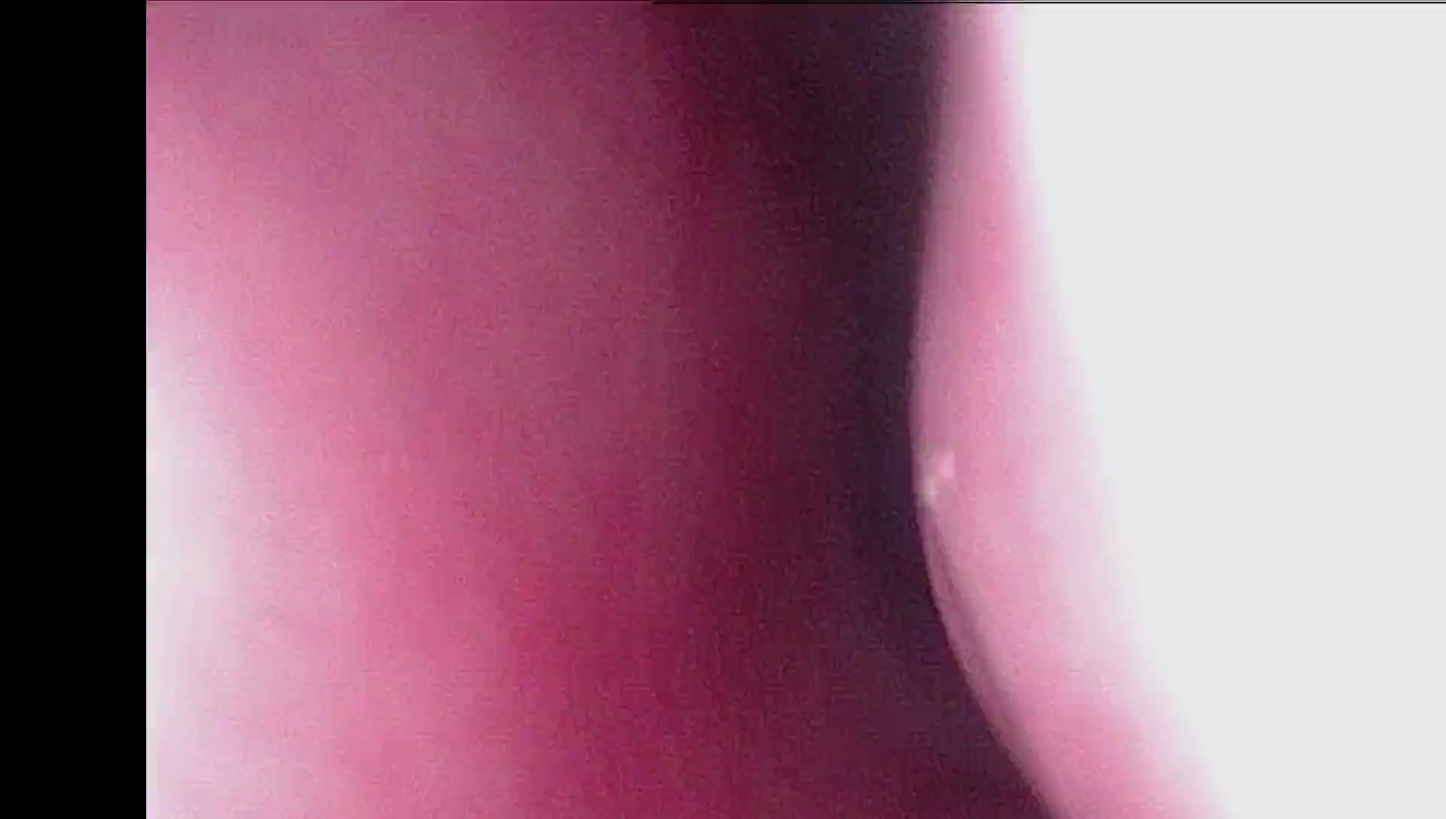close_wall: (979, 10, 1446, 819), (154, 148, 499, 819)
next: (772, 221, 964, 659)
